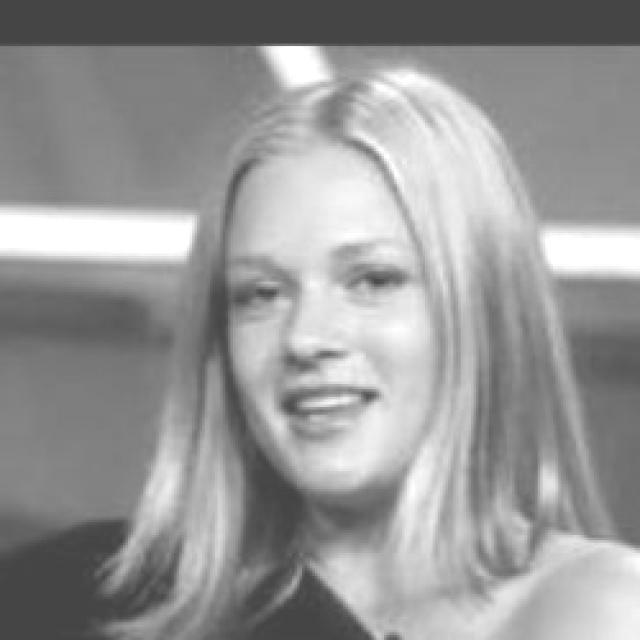real: (232, 150, 462, 496), (234, 248, 425, 317)
